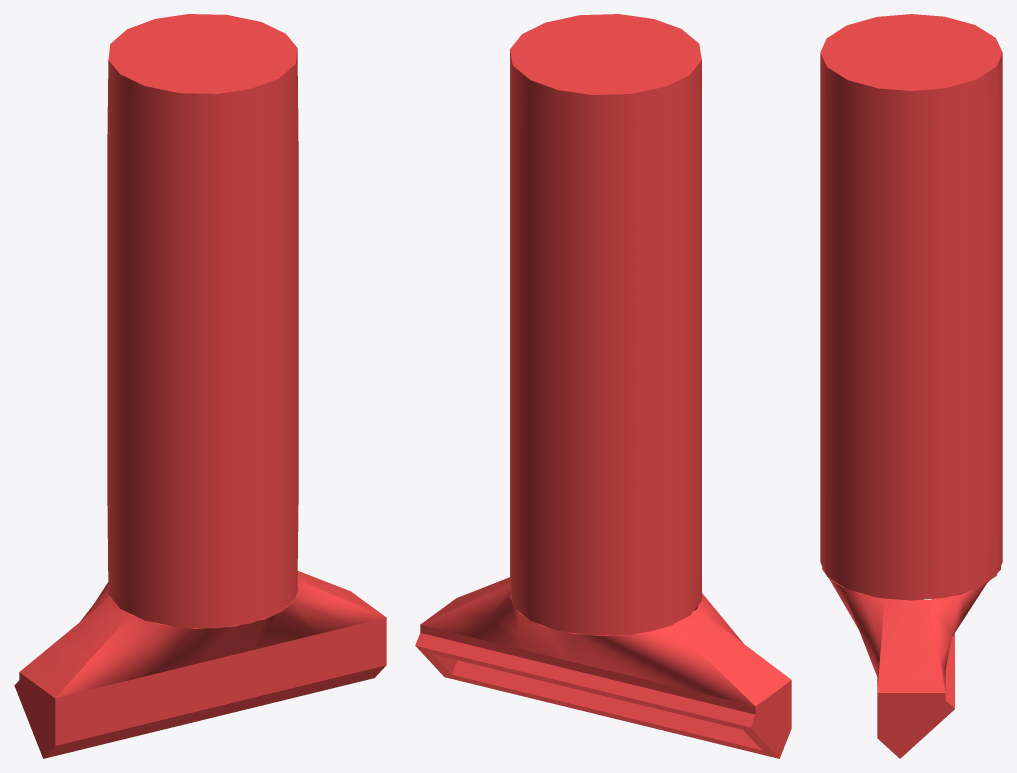
File: 181108 Nozzle2.obj
The picture shows the model from 3 angles, left to right: view 1: azimuth 30°, elevation 25°; view 2: azimuth 150°, elevation 25°; view 3: azimuth 270°, elevation 25°; orthographic projection. The views are drawn at different scales.
Bounding box in the file's own units: 0.08 × 0.1523 × 0.04.
